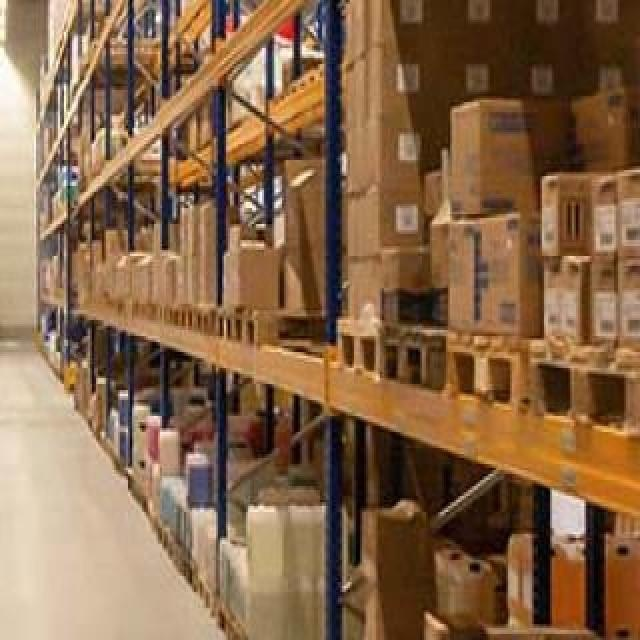fluorescent tube: (0, 0, 10, 12)
